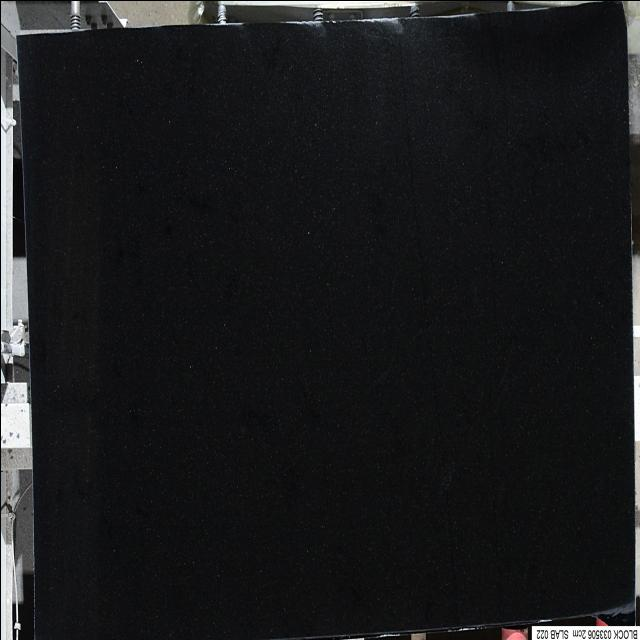chapa: (18, 2, 634, 638)
